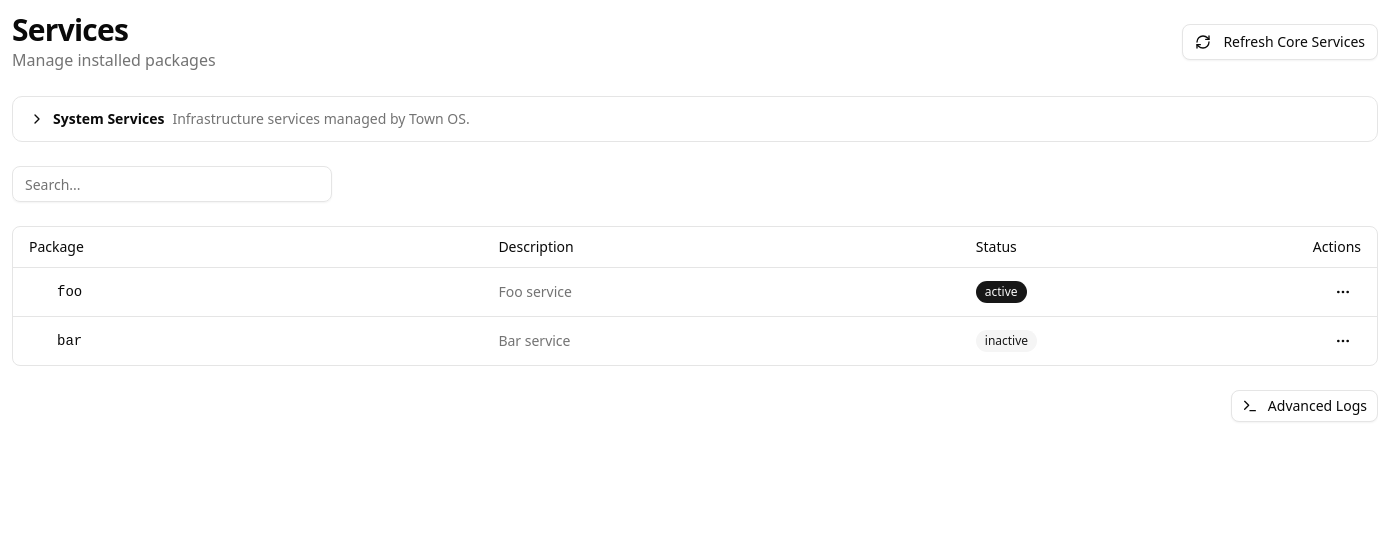
Test: SystemManagement › lists a partition as a system service row, not a section of its own
Click the text "System Services".
click(109, 119)  # box [53,109,164,129]
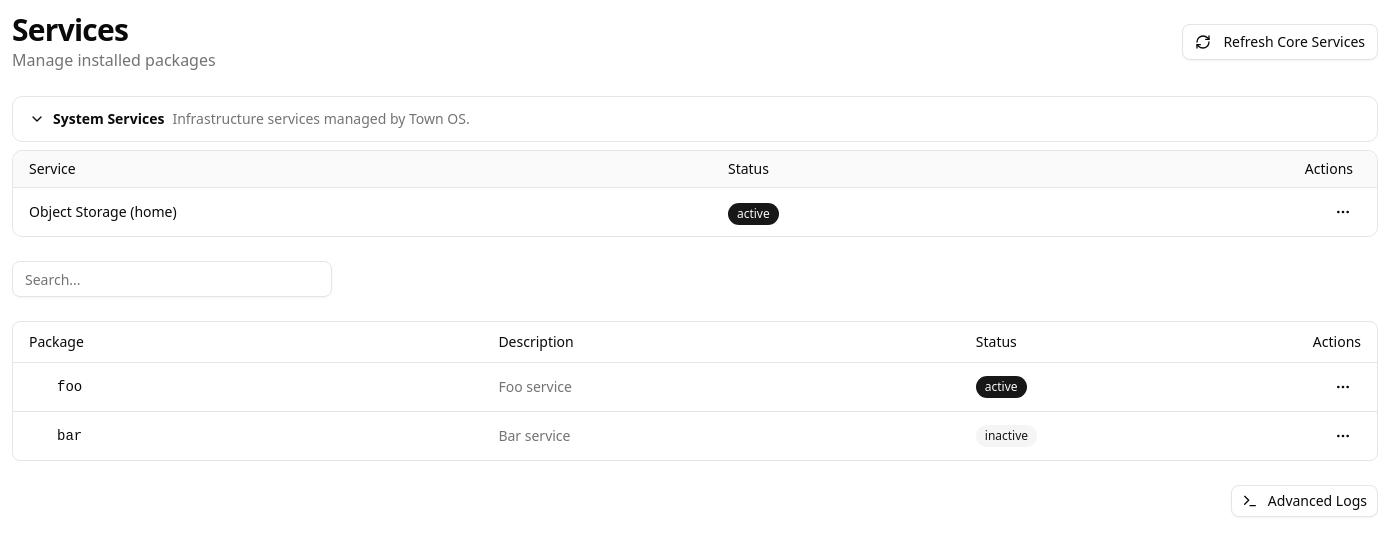
Result: the text "Object Storage (home)" is shown at [13,188,712,236]
